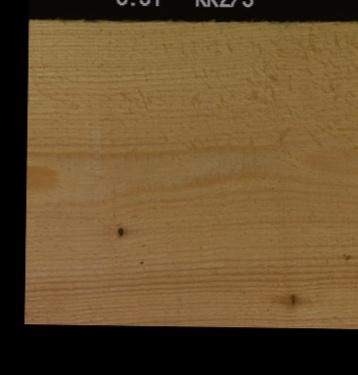dry_knot: (115, 223, 124, 237)
small_knot: (288, 291, 296, 306)
